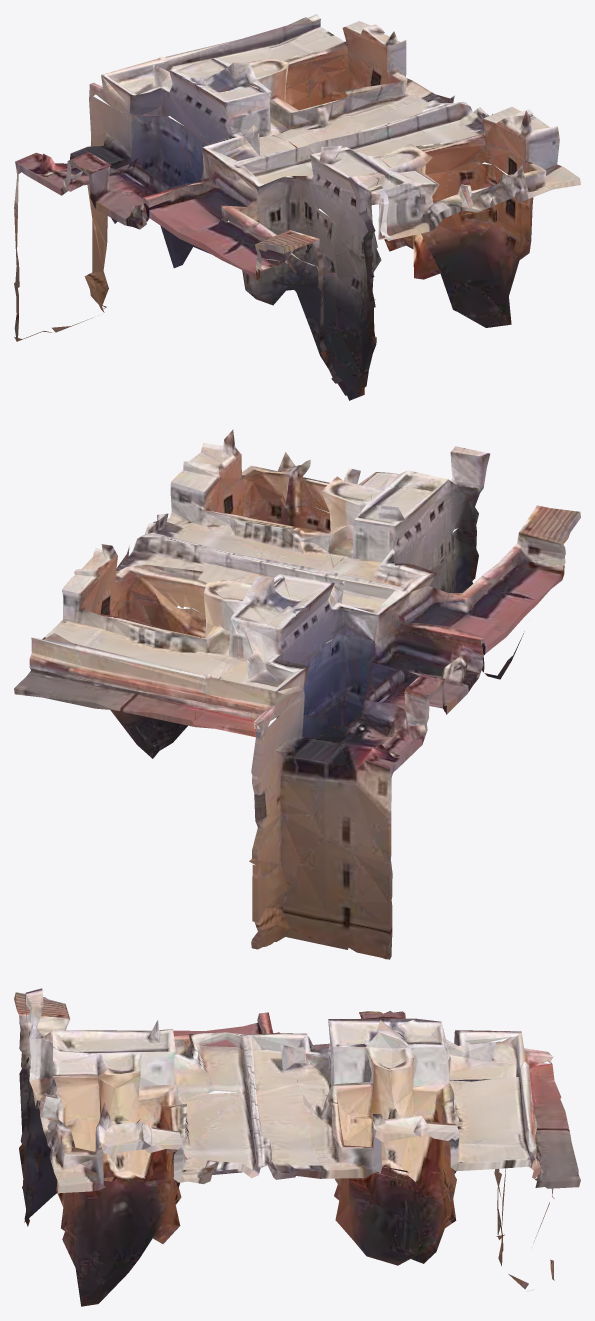
3 renders of one model, top to bottom at view 1: azimuth 30°, elevation 25°; view 2: azimuth 150°, elevation 25°; view 3: azimuth 270°, elevation 25°, orthographic. The views are drawn at different scales.
Visible parts, largest first — view 1: Mesh_0; view 2: Mesh_0; view 3: Mesh_0.
Boxes of the visible parts, x1,y1,x2,y2 form: Mesh_0: (14,14,580,400); Mesh_0: (14,429,580,959); Mesh_0: (14,988,580,1306).
Bounding box in the file's own units: 33.04 × 25.13 × 41.17.
Materials: 2 (2 with a texture image).
